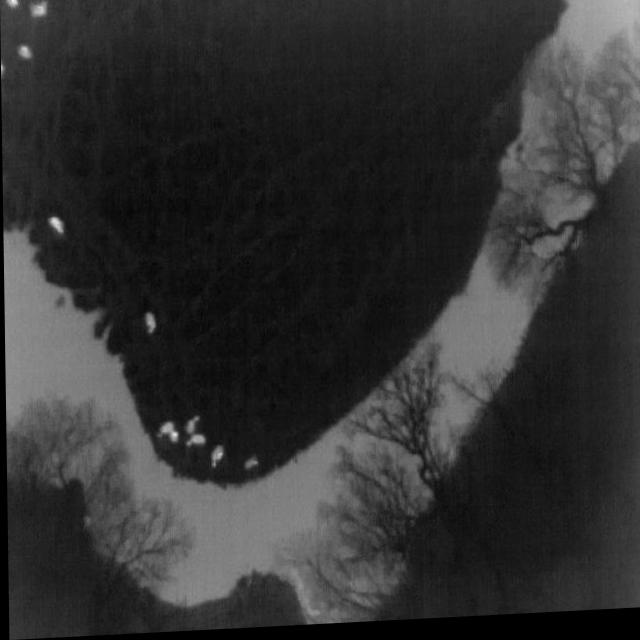deer: (30, 0, 48, 20), (142, 312, 155, 336), (47, 217, 64, 235), (209, 447, 222, 470), (184, 435, 205, 449), (156, 423, 173, 440), (183, 418, 199, 435), (16, 45, 33, 60), (243, 459, 257, 473), (5, 0, 20, 10), (168, 433, 178, 446), (1, 59, 5, 79)
